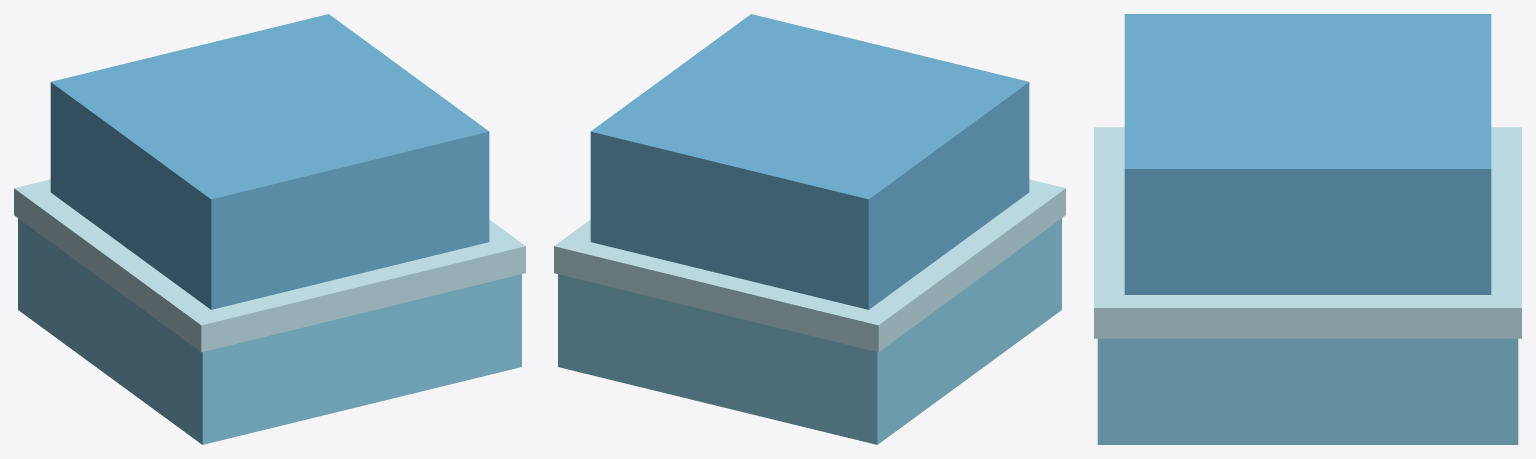
File: samurai_espectral_manga_inf.glb
3 renders of one model, left to right at view 1: azimuth 30°, elevation 25°; view 2: azimuth 150°, elevation 25°; view 3: azimuth 270°, elevation 25°, orthographic. The views are drawn at different scales.
Parts seen in each view (by area): view 1: samurai_espectral_manga_inf; view 2: samurai_espectral_manga_inf; view 3: samurai_espectral_manga_inf.
Boxes of the visible parts, box(x1,y1,x2,y2) form: samurai_espectral_manga_inf: box(14, 14, 525, 444); samurai_espectral_manga_inf: box(554, 14, 1065, 444); samurai_espectral_manga_inf: box(1094, 14, 1521, 444).
Bounding box in the file's own units: 0.315 × 0.215 × 0.315.
